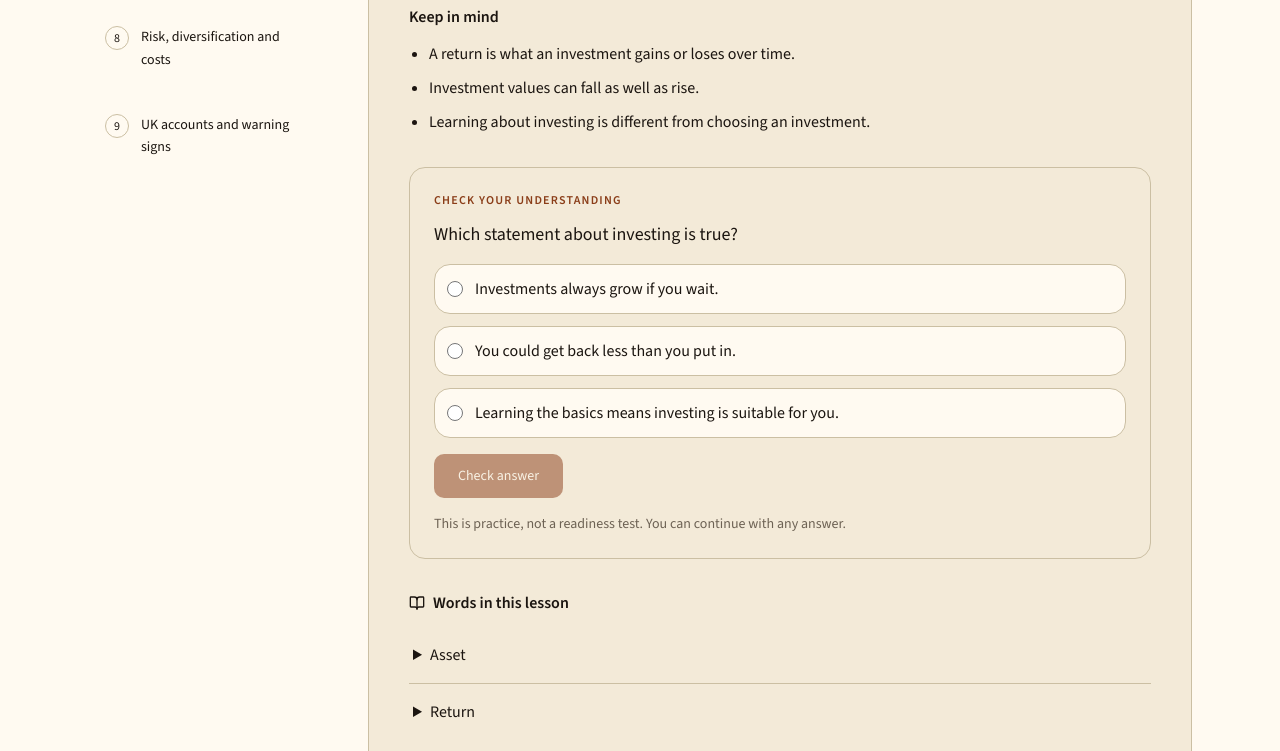
LearningGuide › checks a correct and a wrong answer, then lets you try again
This screenshot has width=1280, height=751.
(page scrolled)
What coordinates should you click on to do the following:
click the radio button labelled "You could get back less than you put in."
I would click on:
 (455, 351)
Its box is top-left (447, 343), bottom-right (463, 359).
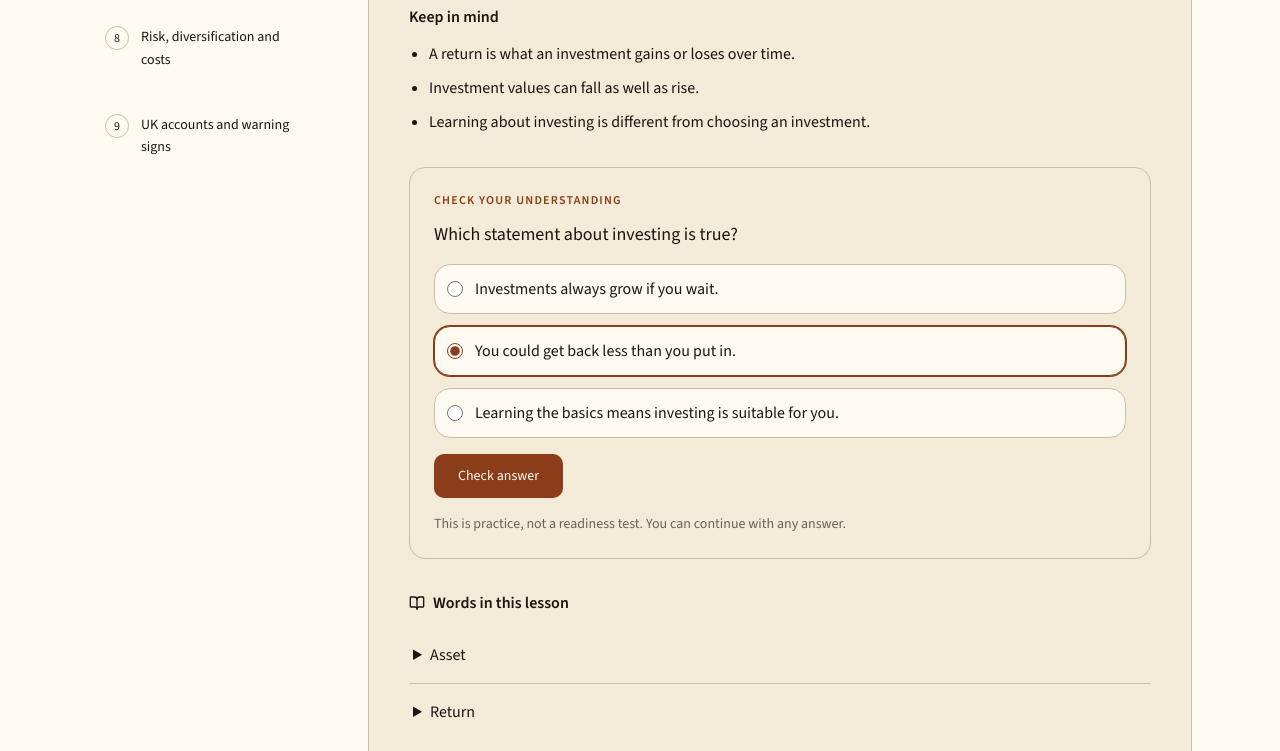
What coordinates should you click on to do the following:
click the button "Check answer"
I would click on:
 (499, 476)
Its box is top-left (434, 454), bottom-right (563, 498).
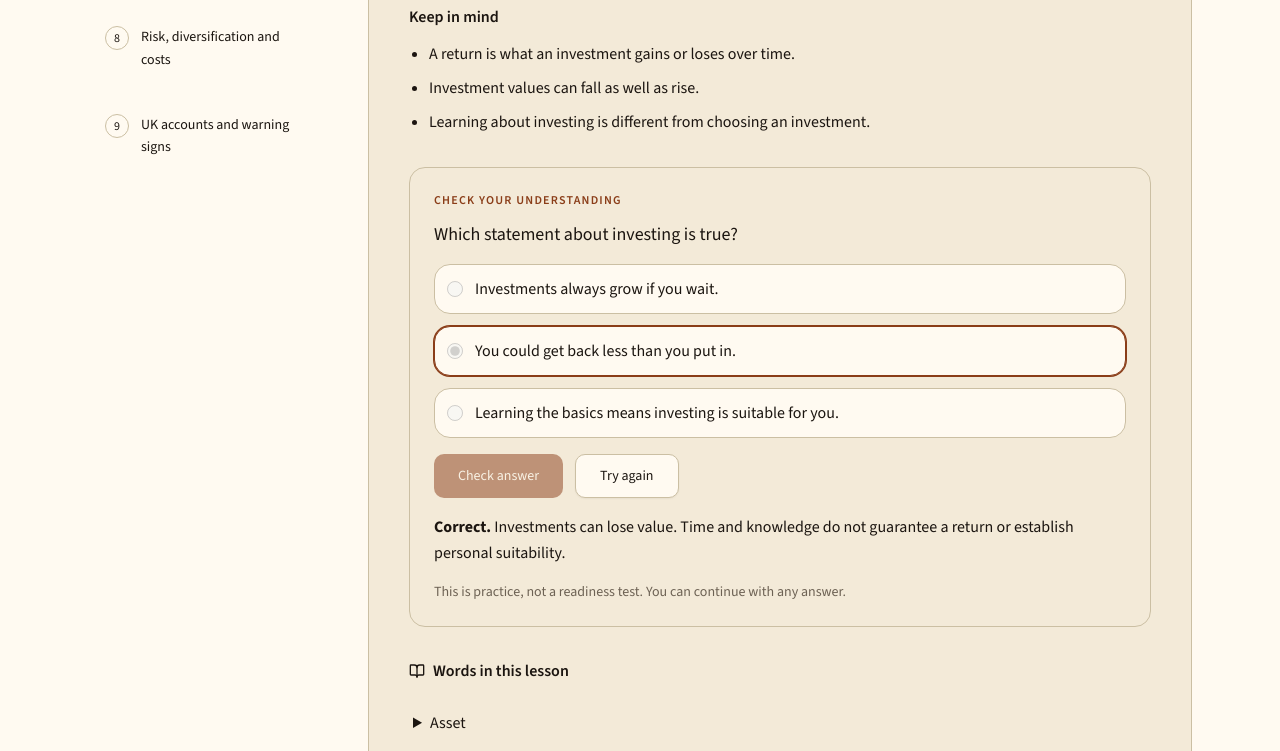
Check: the text "Correct." is shown, box top-left (434, 516), bottom-right (494, 537)
What coordinates should you click on to do the following:
click the button "Try again"
I would click on:
 (627, 476)
Its box is top-left (575, 454), bottom-right (679, 498).
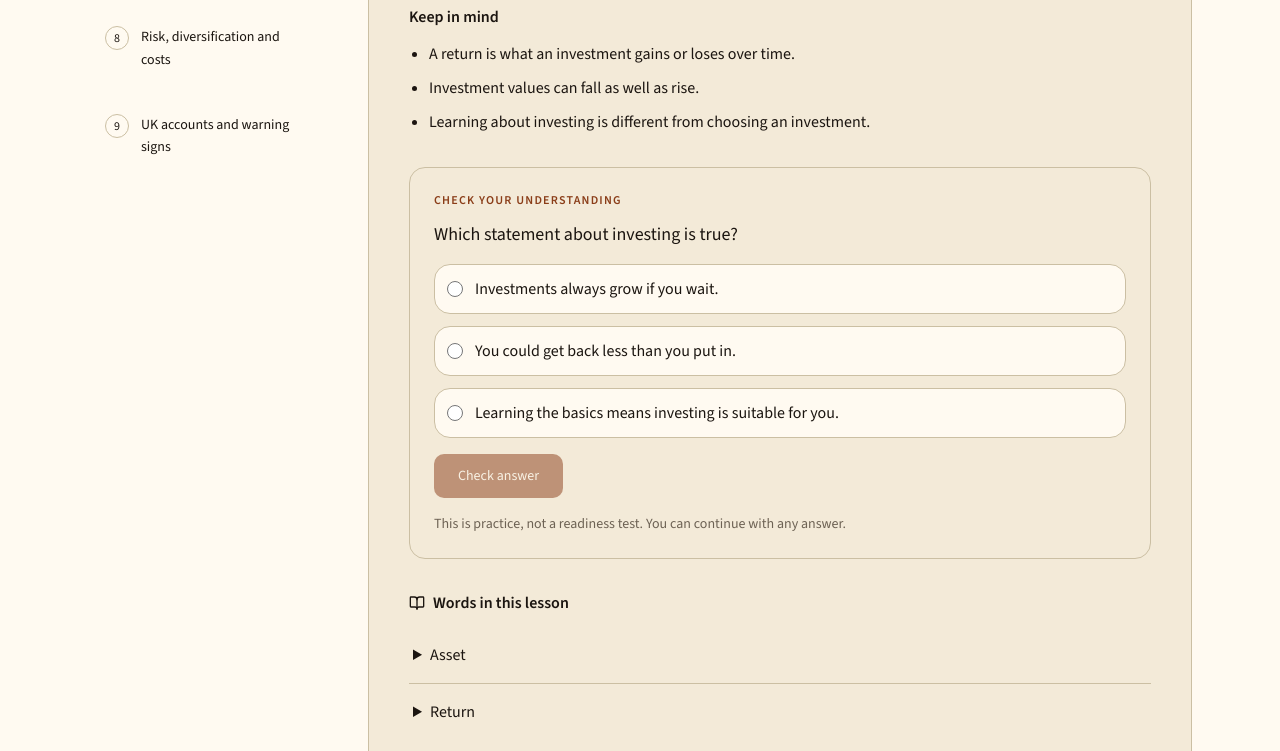
What coordinates should you click on to do the following:
click the radio button labelled "Investments always grow if you wait."
I would click on:
 (455, 289)
Its box is top-left (447, 281), bottom-right (463, 297).
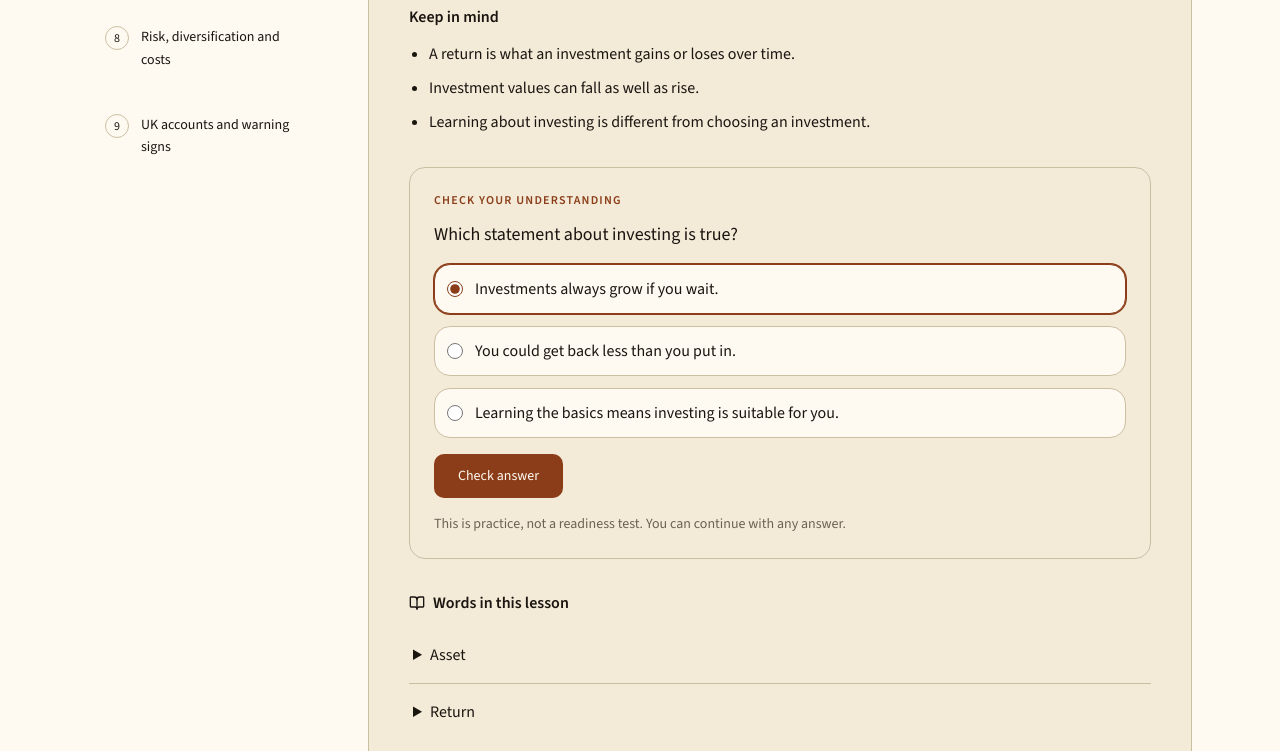
What coordinates should you click on to do the following:
click the button "Check answer"
I would click on:
 (499, 476)
Its box is top-left (434, 454), bottom-right (563, 498).
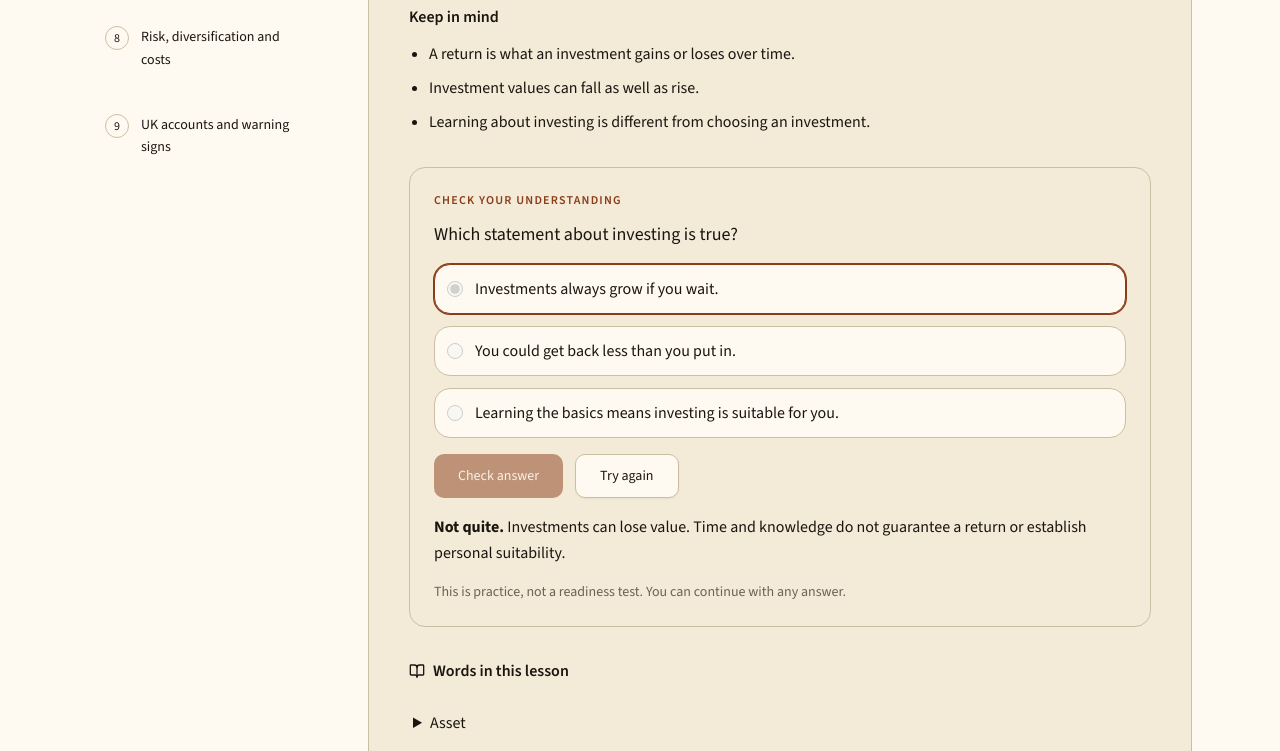
Check: the text "Not quite." is shown, box top-left (434, 516), bottom-right (507, 537)
